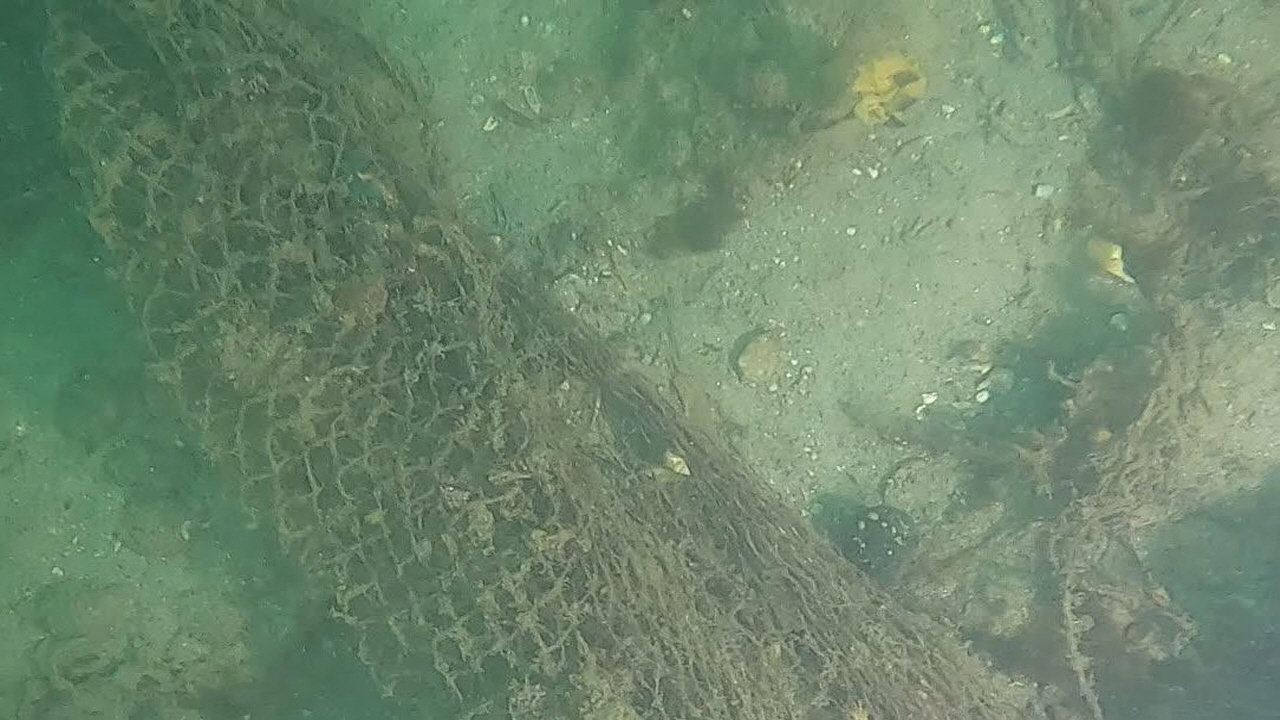fish net: (37, 0, 854, 718)
